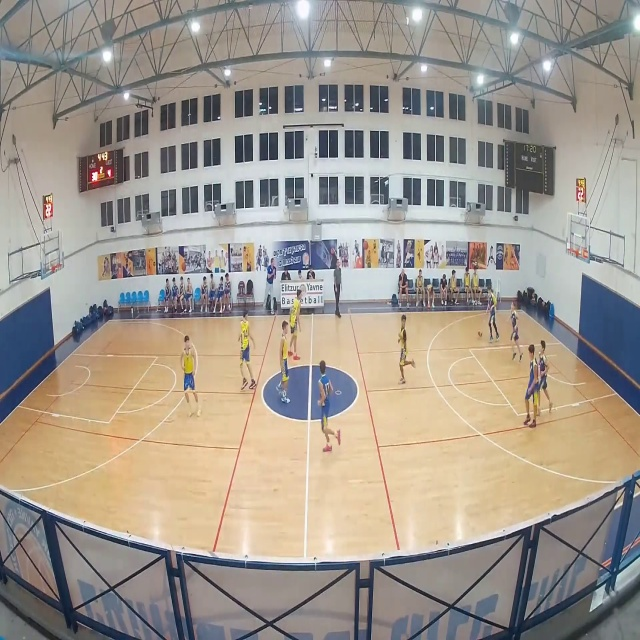Basketball: (477, 331, 482, 337)
